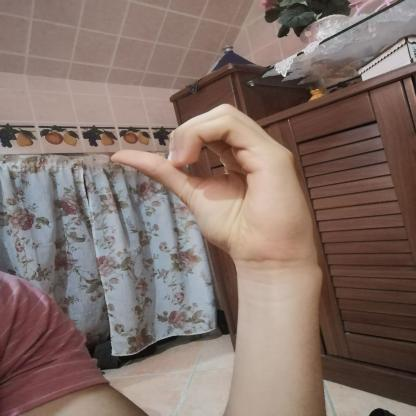WAW: (97, 93, 326, 273)
